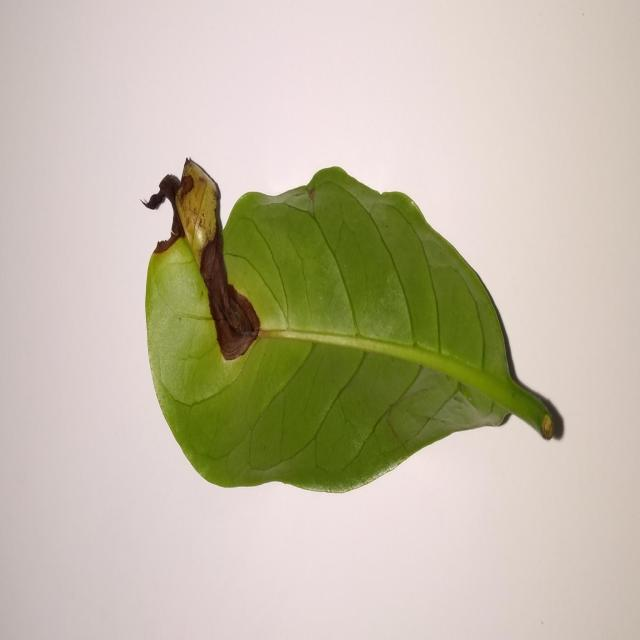Enfermedad-Antracnosis: (142, 159, 566, 496)
